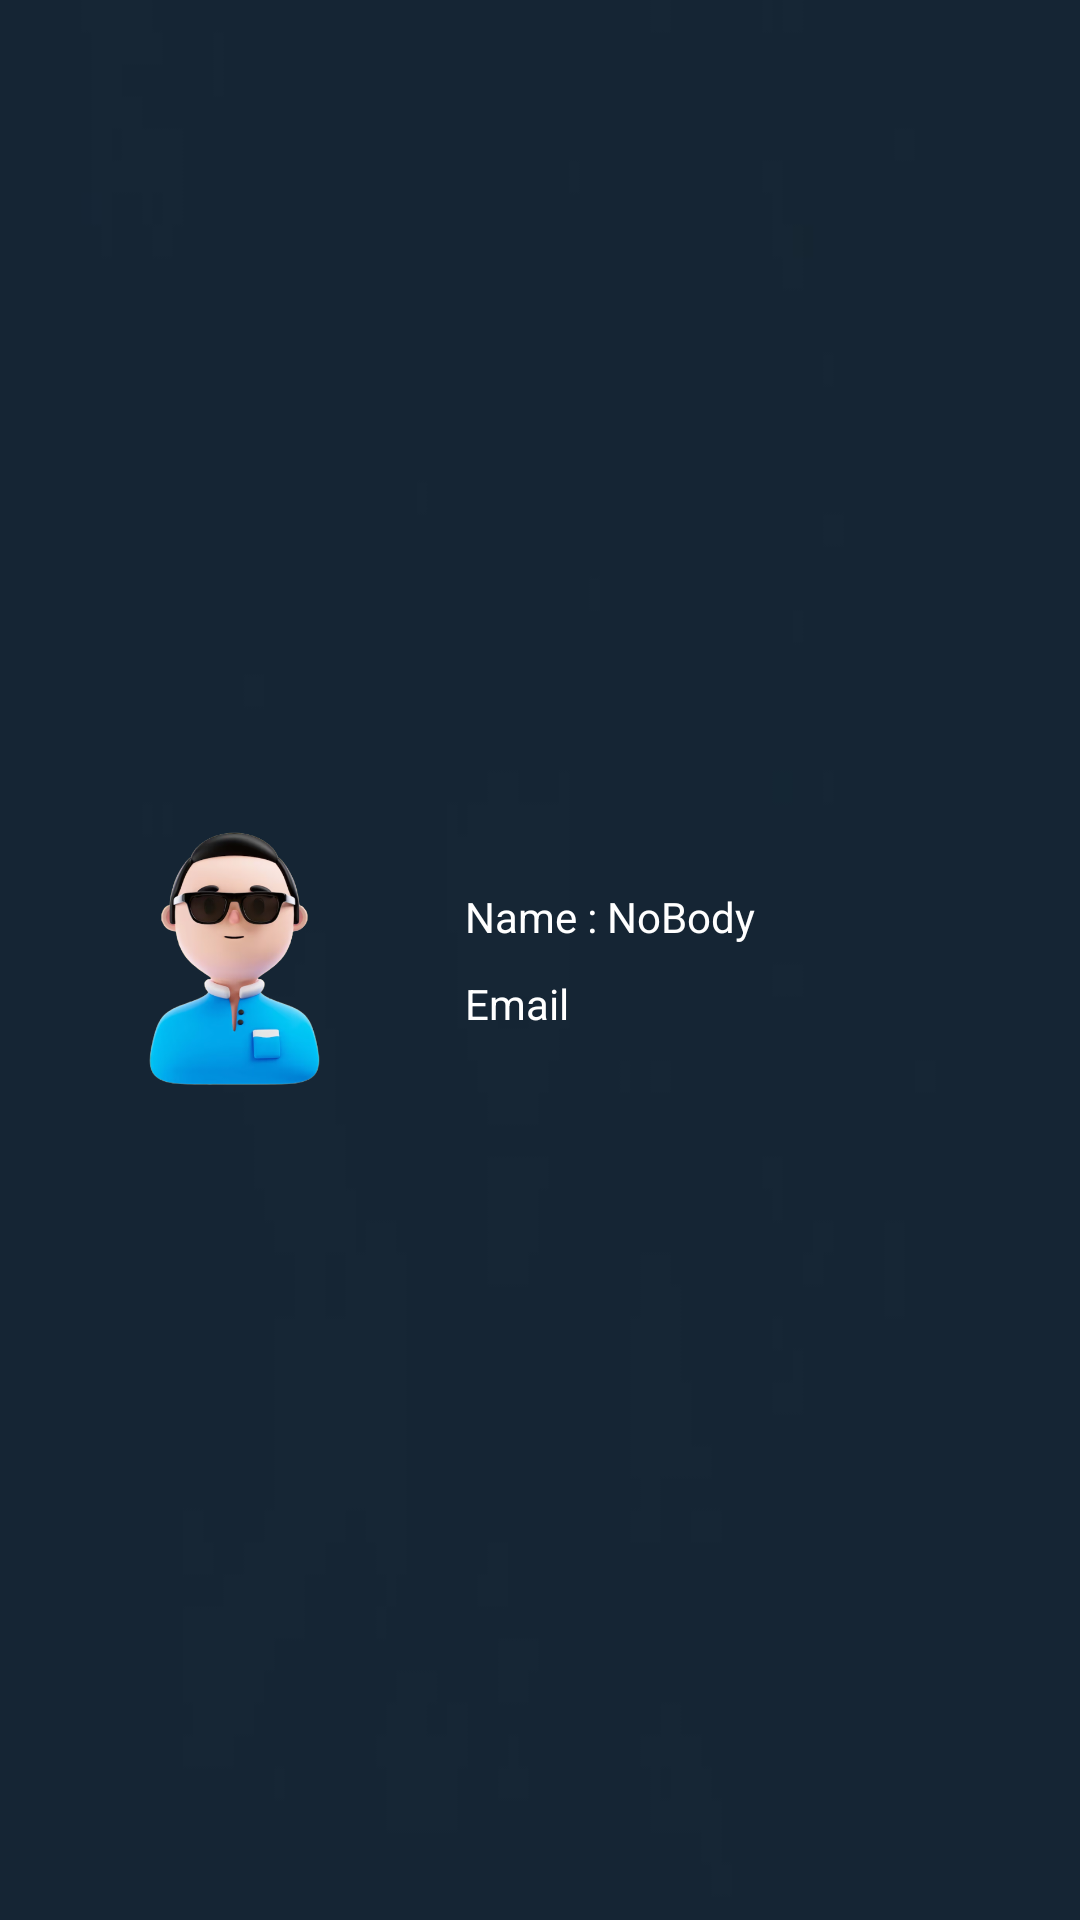

Icon bounding boxes for this 1080w x 1920h phone screenshot, format (x1, y1, x2, y2):
user: (149, 833, 320, 1085)
